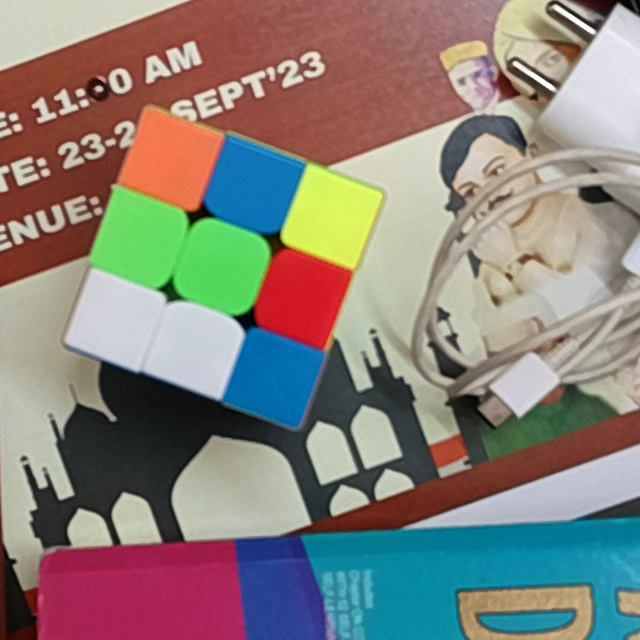tile: (190, 237, 253, 299), (140, 130, 202, 190), (222, 158, 284, 218), (84, 290, 147, 349), (110, 208, 172, 267), (162, 318, 224, 377), (244, 349, 306, 407), (302, 189, 360, 246), (273, 269, 331, 325)
